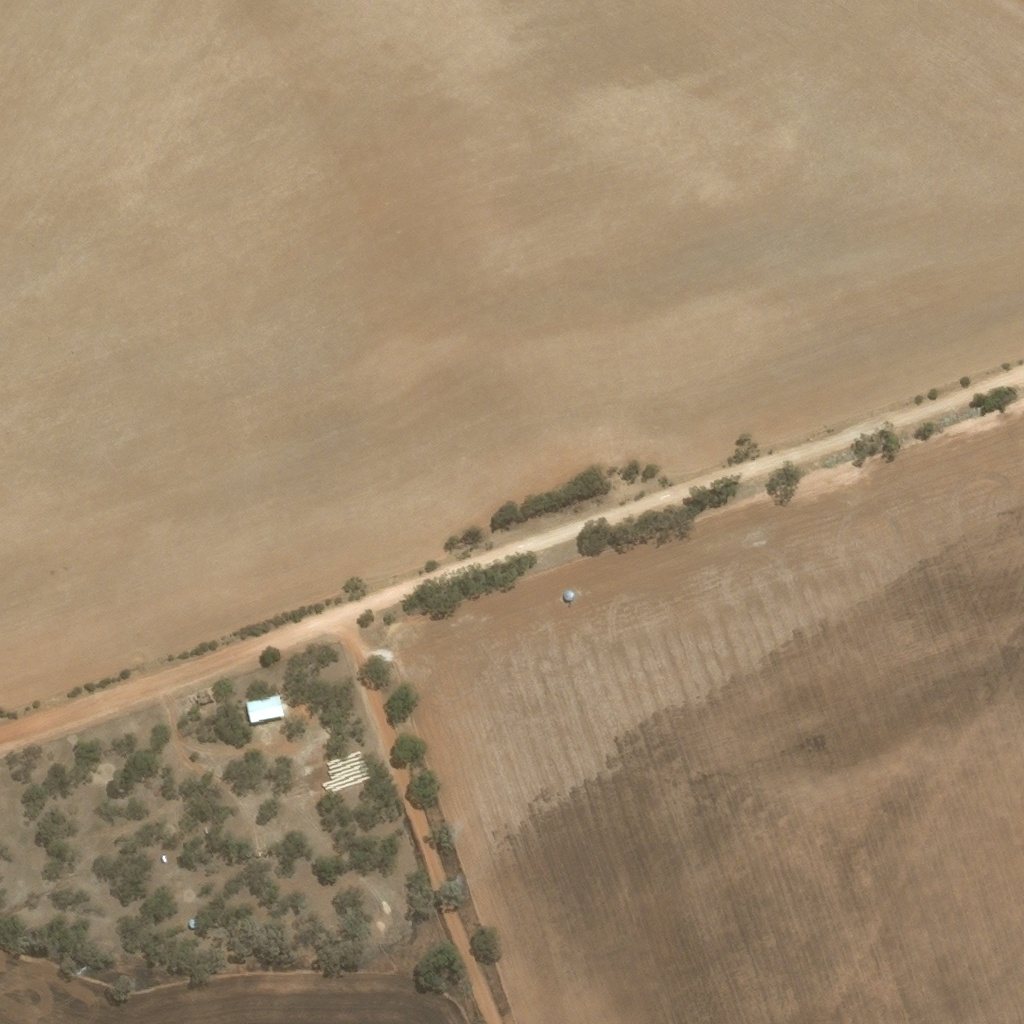0 no-damage: (246, 695, 285, 723), (186, 919, 198, 930)
